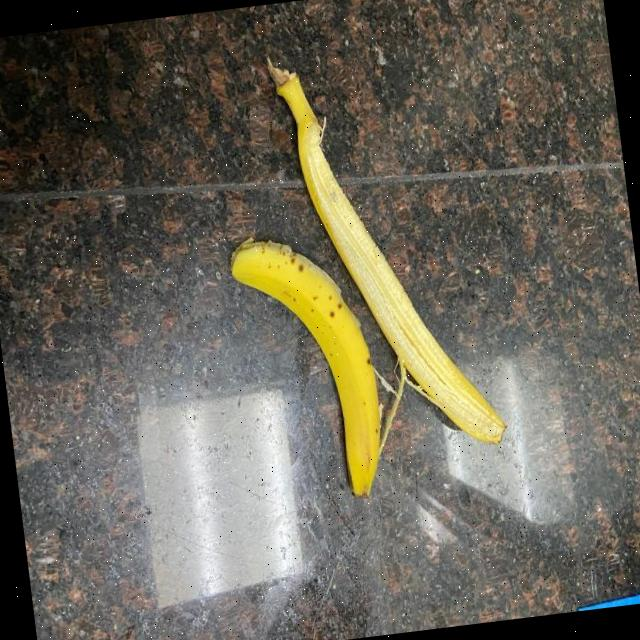banana-peel: (262, 32, 508, 467), (224, 222, 391, 511)
